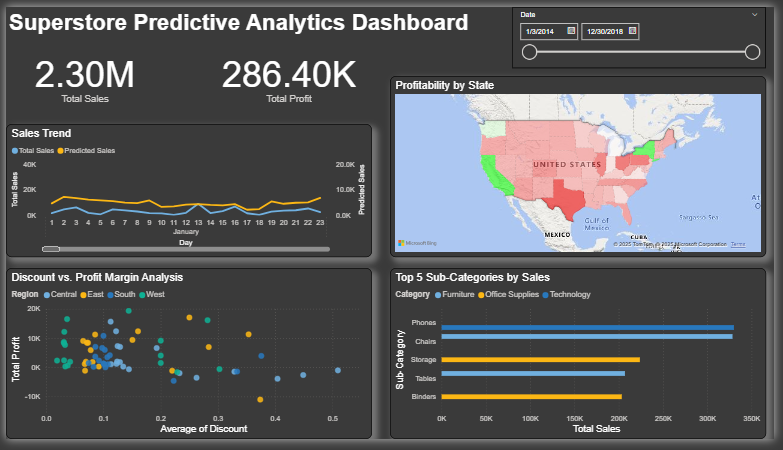

Layout of this report page (visuals, bound fields, positions):
{"tool":"powerbi","page":{"name":"Dashboard","canvas":[1280,720],"ordinal":0},"visuals":[{"type":"lineChart","title":"Sales Trend","fields":{"Y":["Sample - Superstore.Total Sales"],"Category":["DateTable.Date.Variation.Date Hierarchy.Month","DateTable.Date.Variation.Date Hierarchy.Day"],"Y2":["forecast_results.Predicted Sales"]},"box":[0,195,610,221.7],"z":0},{"type":"filledMap","title":"Profitability by State","fields":{"Category":["Sample - Superstore.State"]},"box":[640,115,626.7,301.7],"z":1000},{"type":"card","fields":{"Values":["Sample - Superstore.Total Sales"]},"box":[0,53.3,263.3,123.3],"z":2000},{"type":"card","fields":{"Values":["Sample - Superstore.Total Profit"]},"box":[333.3,53.3,276.7,123.3],"z":3000},{"type":"slicer","fields":{"Values":["DateTable.Date"]},"box":[843.3,0,423.3,101.7],"z":4000},{"type":"clusteredBarChart","title":"Top 5 Sub-Categories by Sales","fields":{"Category":["Sample - Superstore.Sub-Category"],"Y":["Sample - Superstore.Total Sales"],"Series":["Sample - Superstore.Category"]},"box":[640,435,626.7,285],"z":5000},{"type":"scatterChart","title":"Discount vs. Profit Margin Analysis","fields":{"X":["Avg(Sample - Superstore.Discount)"],"Y":["Sample - Superstore.Total Profit"],"Series":["Sample - Superstore.Region"],"Category":["Sample - Superstore.Sub-Category"]},"box":[0,435,610,285],"z":6000},{"type":"textbox","box":[0,0,843.3,53.3],"z":7000}]}

Visuals, with their boxes in screenshot pixels (x1, y1, x2, y2), scaled from the page's 1280x720 canvas onto the 783x450 screenshot:
"Sales Trend" lineChart: box=[0, 122, 373, 260]
"Profitability by State" filledMap: box=[392, 72, 775, 260]
card - Sample - Superstore.Total Sales: box=[0, 33, 161, 110]
card - Sample - Superstore.Total Profit: box=[204, 33, 373, 110]
slicer - DateTable.Date: box=[516, 0, 775, 64]
"Top 5 Sub-Categories by Sales" clusteredBarChart: box=[392, 272, 775, 449]
"Discount vs. Profit Margin Analysis" scatterChart: box=[0, 272, 373, 449]
textbox: box=[0, 0, 516, 33]
